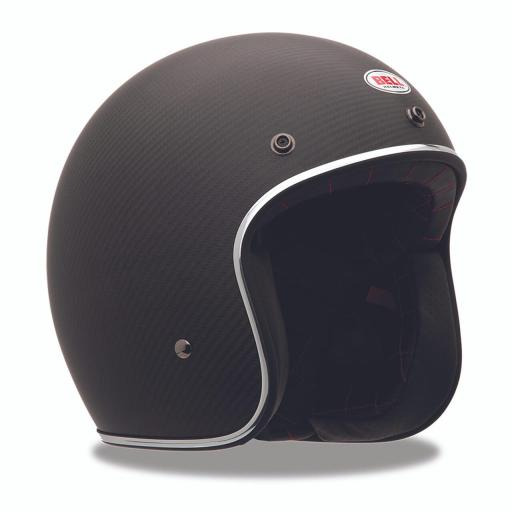helmet-detection: (6, 19, 502, 480)
